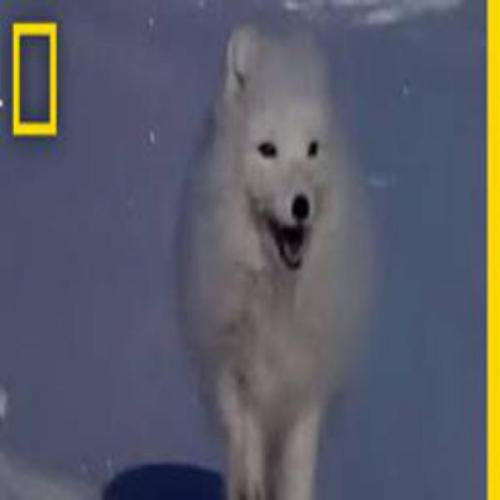arctic_fox-endangered: (173, 22, 379, 500)
